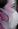with_mask: (2, 2, 18, 29)
